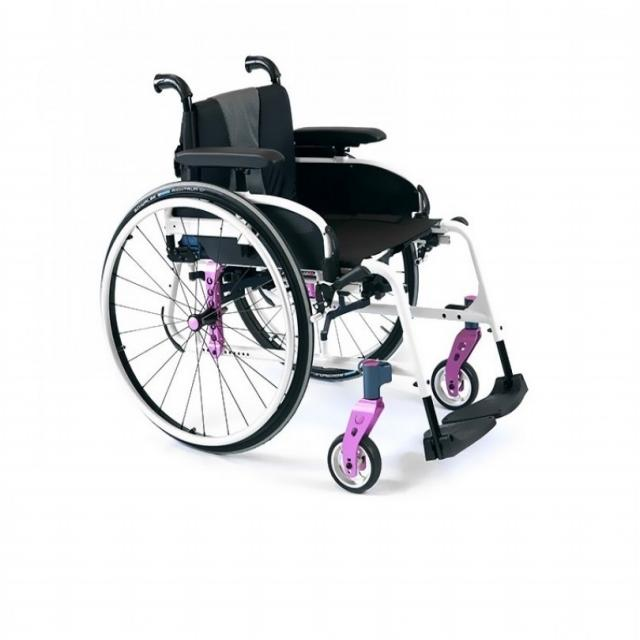wheelchair: (86, 50, 559, 510)
